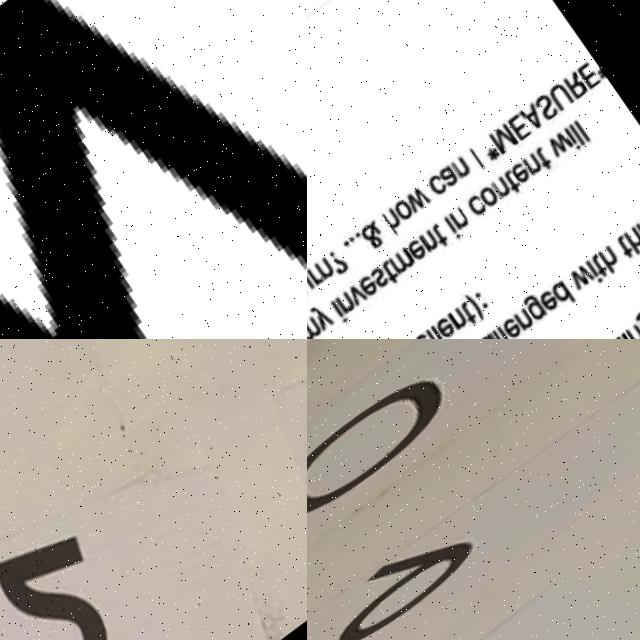0: (307, 347, 479, 553)
2: (0, 495, 163, 640)
9: (307, 501, 508, 640)
A: (517, 110, 545, 143), (435, 169, 459, 198)
C: (463, 200, 487, 227), (425, 179, 448, 205)
D: (547, 287, 576, 322)
E: (505, 120, 532, 151), (574, 72, 600, 102), (404, 244, 427, 271), (507, 168, 530, 195), (536, 297, 559, 323), (354, 279, 377, 305), (430, 321, 453, 339), (497, 323, 520, 339)
G: (519, 300, 545, 331), (631, 318, 640, 339)
H: (595, 254, 622, 287), (378, 212, 405, 245), (620, 234, 640, 267)
I: (326, 302, 347, 331), (441, 221, 462, 250), (584, 267, 603, 296), (562, 135, 580, 161), (466, 155, 483, 179), (428, 329, 447, 339), (633, 232, 640, 259)
L: (572, 129, 589, 153), (567, 133, 583, 156), (493, 333, 511, 339)
M: (486, 128, 519, 166), (386, 254, 415, 284), (307, 320, 321, 339)
N: (0, 0, 307, 339), (445, 212, 469, 239), (487, 182, 510, 209), (445, 313, 468, 339), (416, 235, 439, 261), (519, 160, 542, 186), (447, 163, 470, 189), (332, 296, 355, 321), (312, 262, 334, 287), (510, 316, 533, 339)
O: (475, 191, 499, 217), (390, 205, 413, 230)
R: (561, 80, 587, 111), (307, 270, 321, 291)
S: (531, 101, 558, 132), (365, 269, 389, 298)
T: (456, 308, 477, 335), (612, 246, 632, 272), (532, 155, 552, 181), (587, 264, 607, 289), (377, 266, 397, 291), (500, 179, 520, 204), (429, 231, 447, 255)
U: (544, 88, 574, 123), (307, 276, 313, 301)
V: (342, 288, 366, 314)
W: (565, 271, 594, 303), (544, 139, 572, 169), (403, 192, 430, 221)
Y: (307, 304, 333, 337)
